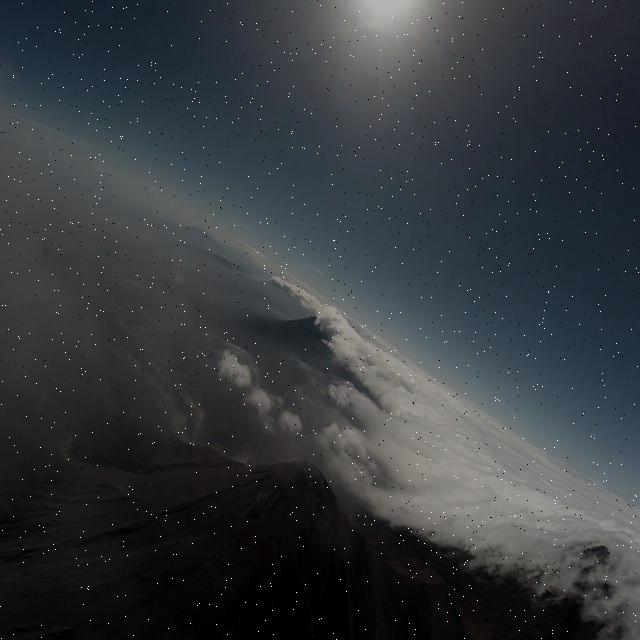Summit: (232, 454, 356, 566)
